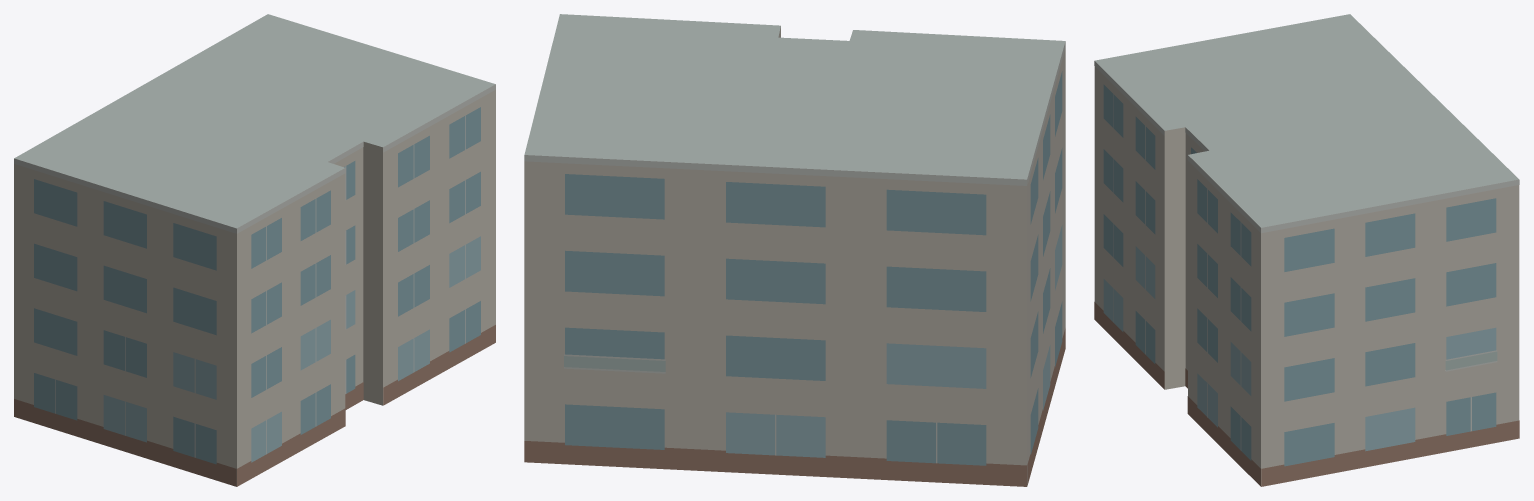
File: survey-upis-32743146.glb
3 renders of one model, left to right at view 1: azimuth 30°, elevation 25°; view 2: azimuth 150°, elevation 25°; view 3: azimuth 270°, elevation 25°, orthographic. The views are drawn at different scales.
Parts seen in each view (by area): view 1: survey-upis-32743146.tmp; view 2: survey-upis-32743146.tmp; view 3: survey-upis-32743146.tmp.
Part boxes in pixels (box(x1,y1,x2,y2)): survey-upis-32743146.tmp: box(14, 14, 495, 486); survey-upis-32743146.tmp: box(524, 14, 1065, 486); survey-upis-32743146.tmp: box(1094, 14, 1519, 486).
Size of the model in its own units: 20.73 by 11.7 by 17.41.
